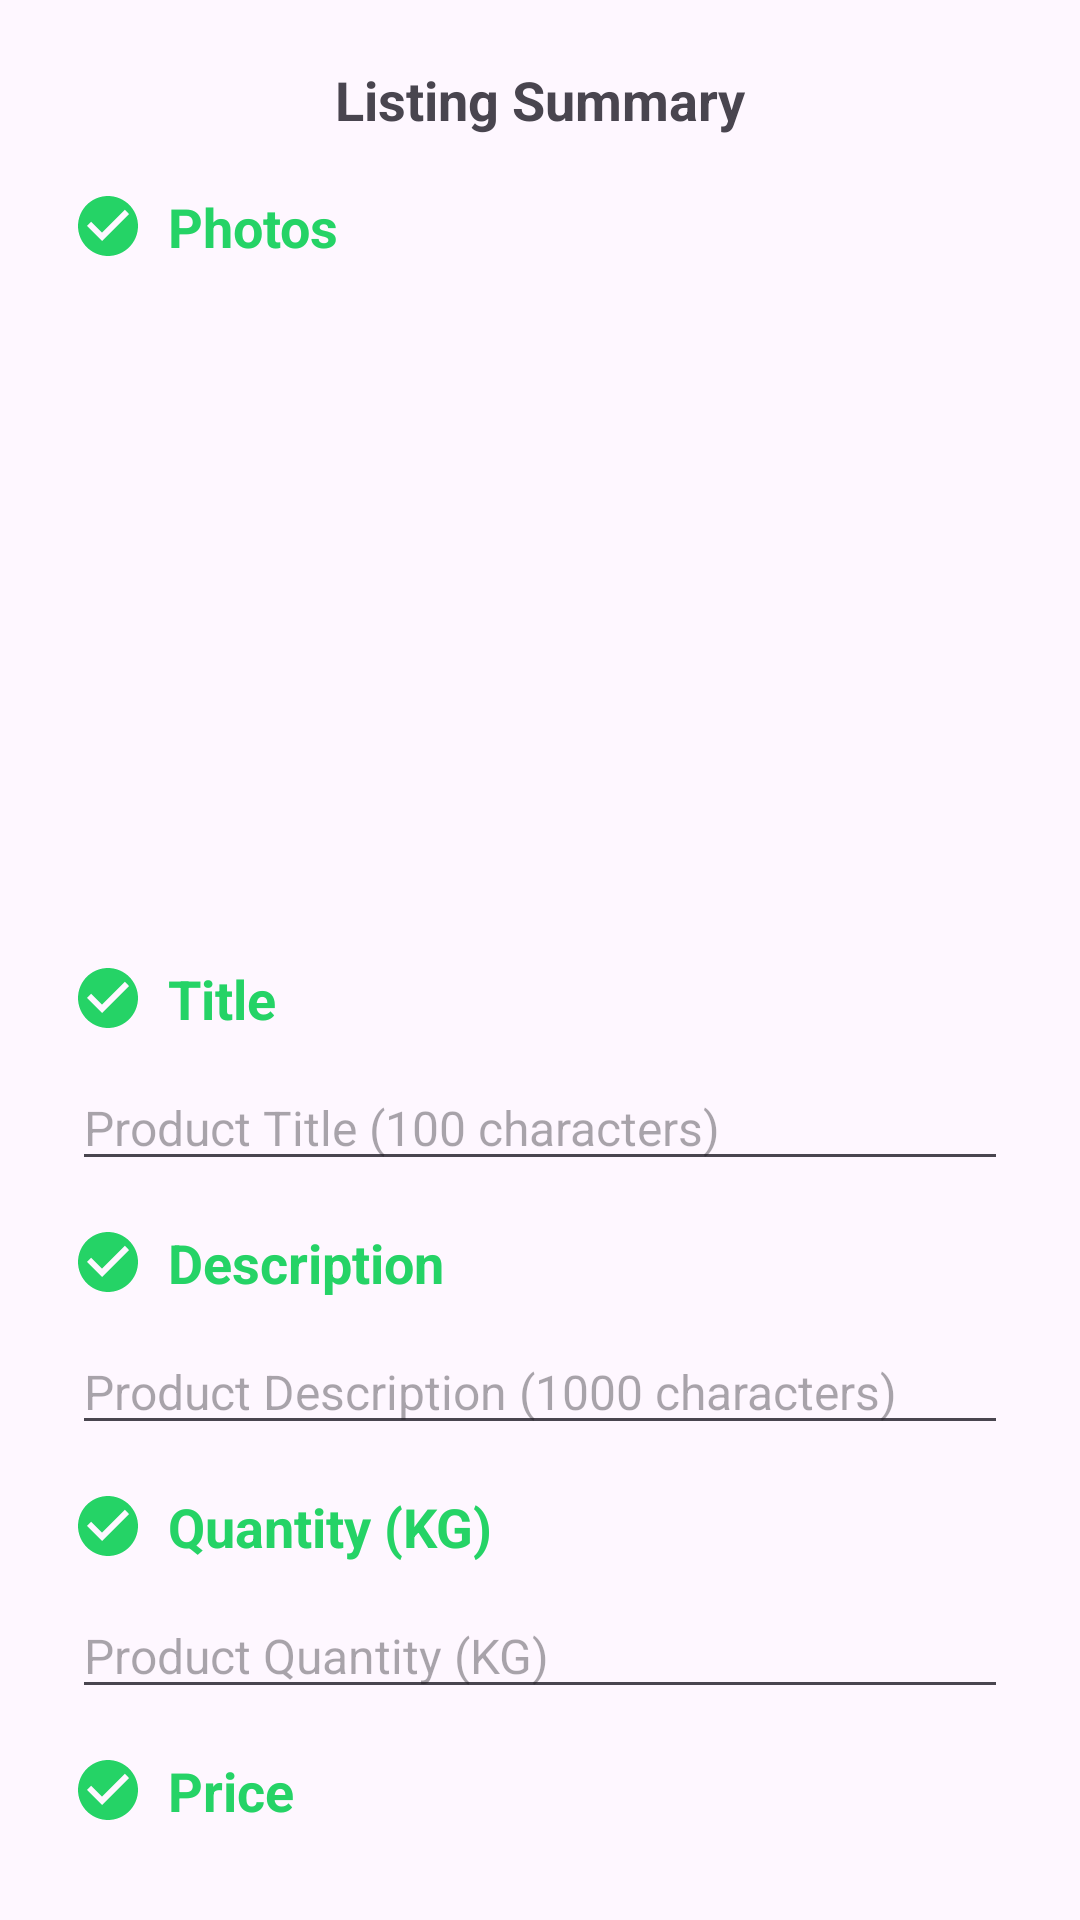

Named icons in this screenshot (1080px x 1920px) and their bounding boxes, (x1, y1, x2, y2):
check circle: (78, 196, 138, 256), (78, 968, 138, 1028), (78, 1232, 138, 1292), (78, 1496, 138, 1556), (78, 1760, 138, 1820)
